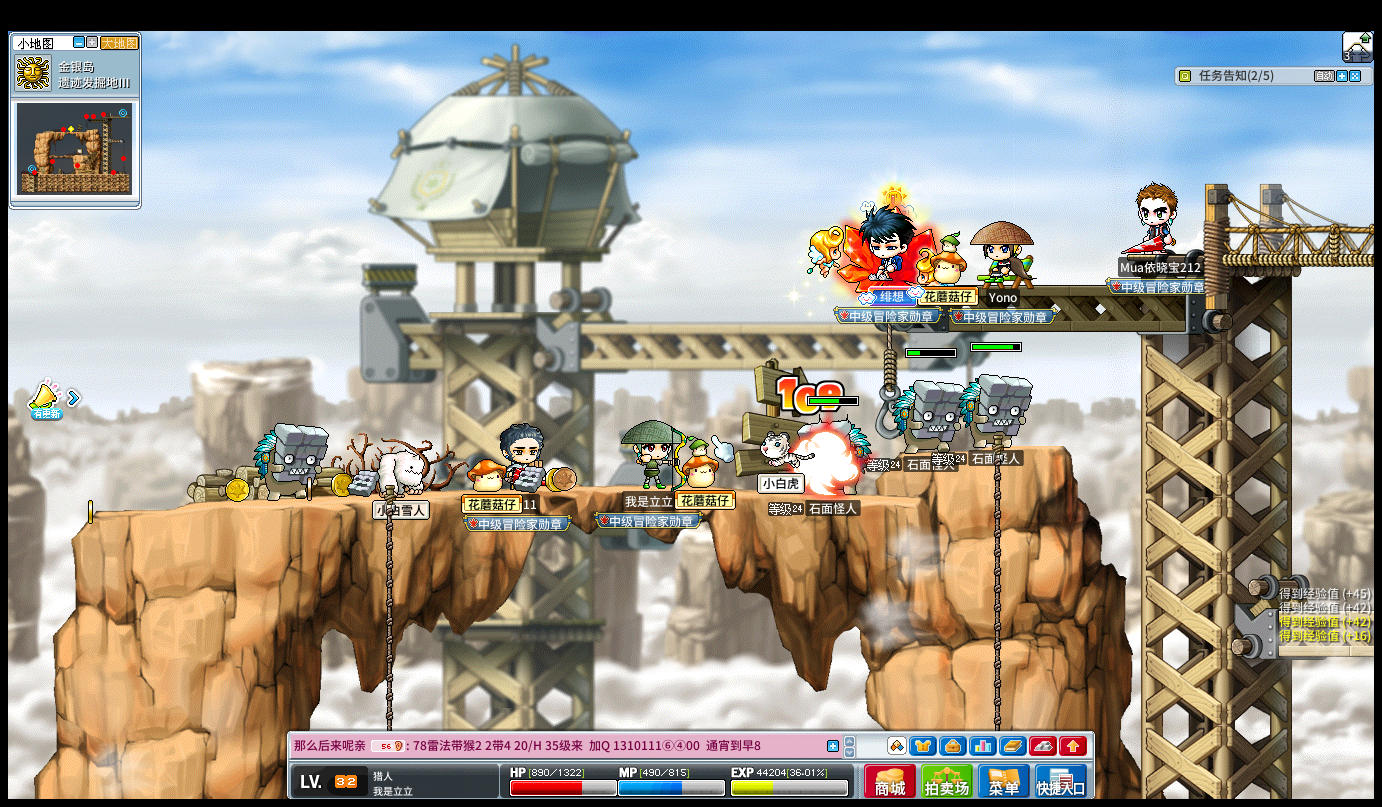floor: (79, 482, 911, 511), (77, 483, 1016, 504), (59, 485, 1032, 498), (1210, 218, 1376, 234)
monster: (253, 422, 328, 502), (960, 372, 1032, 448), (893, 379, 962, 451)
rope: (989, 447, 1004, 772), (382, 483, 395, 807), (382, 484, 395, 719), (990, 638, 1003, 725)
